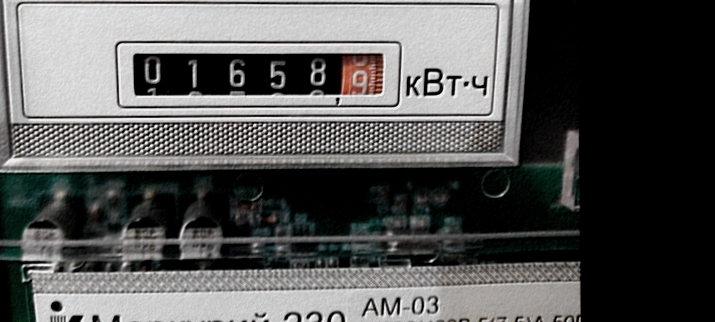0: (142, 54, 163, 84)
1: (185, 56, 203, 89)
5: (267, 58, 289, 89)
6: (227, 55, 248, 88)
8: (308, 54, 329, 87)
9: (349, 68, 370, 96)
screen: (106, 30, 407, 115)
